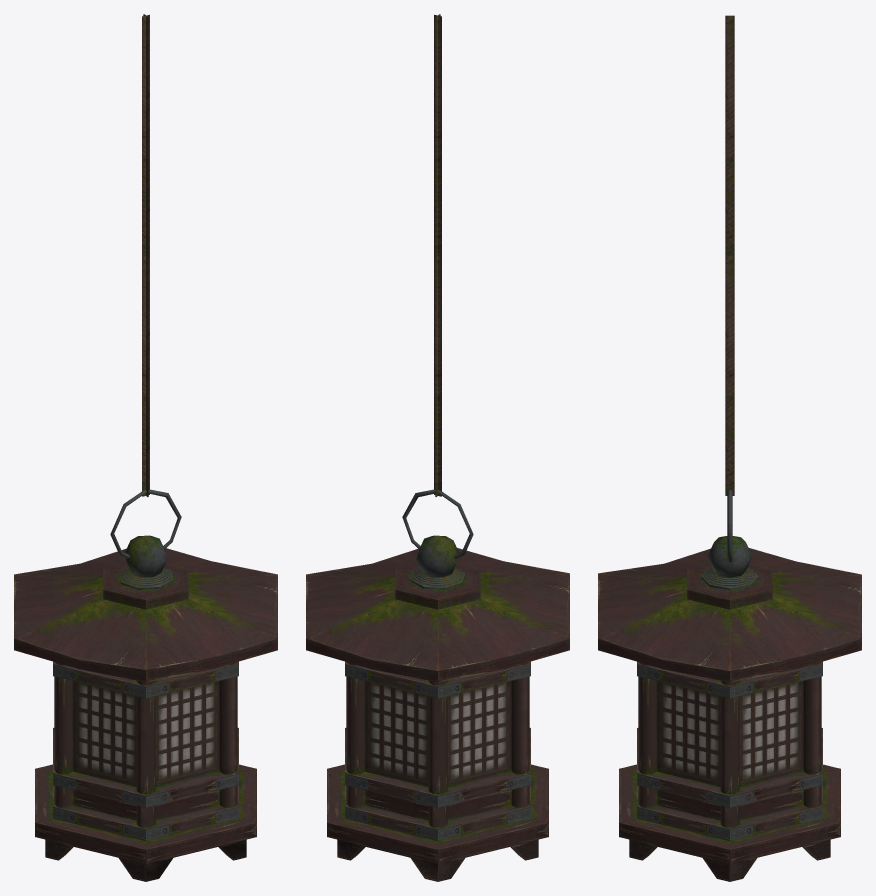
File: i_zx_xiaodiaodeng01.FBX
The picture shows the model from 3 angles, left to right: view 1: azimuth 30°, elevation 25°; view 2: azimuth 150°, elevation 25°; view 3: azimuth 270°, elevation 25°; orthographic projection.
Parts seen in each view (by area): view 1: i_zx_xiaodiaodeng01; view 2: i_zx_xiaodiaodeng01; view 3: i_zx_xiaodiaodeng01.
Boxes of the visible parts, x1,y1,x2,y2 form: i_zx_xiaodiaodeng01: (14,14,277,881); i_zx_xiaodiaodeng01: (306,14,569,881); i_zx_xiaodiaodeng01: (598,15,861,881).
Bounding box in the file's own units: 0.6766 × 2 × 0.5859.
